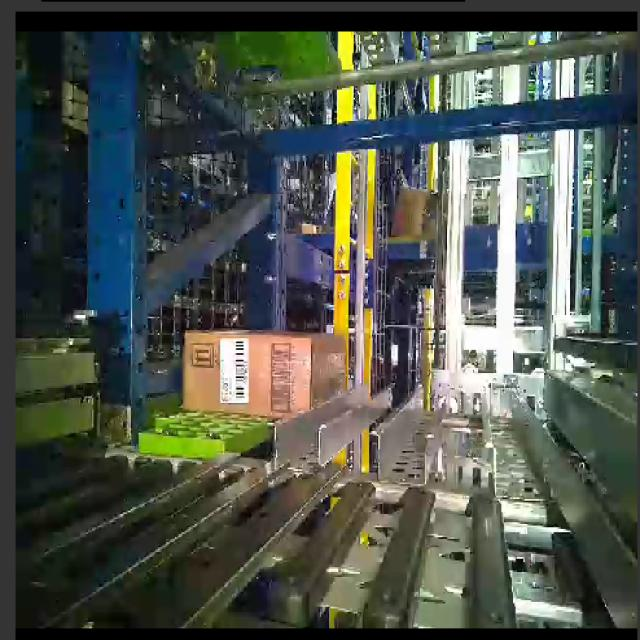box: (181, 332, 315, 421)
